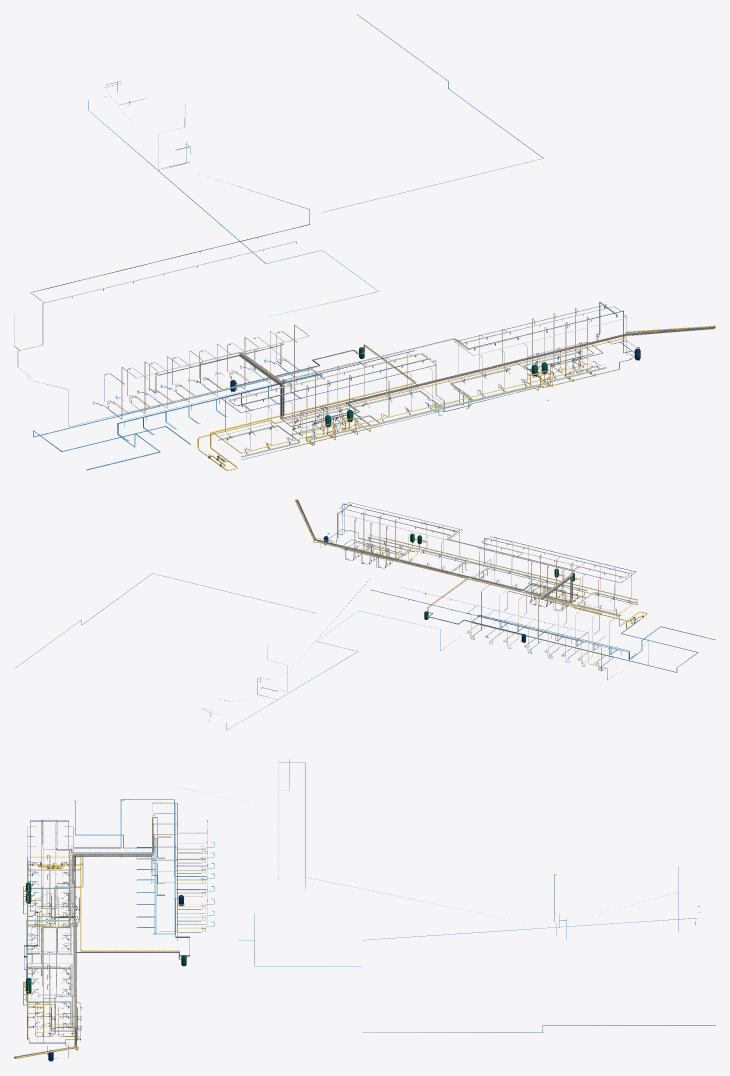
3 renders of one model, top to bottom at view 1: azimuth 30°, elevation 25°; view 2: azimuth 150°, elevation 25°; view 3: azimuth 270°, elevation 25°, orthographic. The views are drawn at different scales.
Visible parts, largest first — view 1: 压缩空气管道动画, 氮气管道动画, 水管动画, 排气管道, 磁悬浮风机管道动画3, C动画; view 2: 压缩空气管道动画, 氮气管道动画, 水管动画, 排气管道, 磁悬浮风机管道动画3, C动画, B动画; view 3: 压缩空气管道动画, 水管动画, 氮气管道动画, 排气管道, 磁悬浮风机管道动画3, 罗茨风机管道动画.
Part boxes in pixels (bbox=[...]): 压缩空气管道动画: bbox=[14, 83, 714, 459]; 氮气管道动画: bbox=[107, 325, 715, 470]; 水管动画: bbox=[33, 14, 543, 470]; 排气管道: bbox=[225, 308, 592, 450]; 磁悬浮风机管道动画3: bbox=[218, 368, 533, 456]; C动画: bbox=[149, 327, 714, 426]; 压缩空气管道动画: bbox=[207, 502, 649, 721]; 氮气管道动画: bbox=[295, 499, 647, 668]; 水管动画: bbox=[14, 573, 715, 730]; 排气管道: bbox=[354, 511, 631, 610]; 磁悬浮风机管道动画3: bbox=[405, 549, 637, 615]; C动画: bbox=[297, 500, 601, 634]; B动画: bbox=[296, 499, 571, 624]; 压缩空气管道动画: bbox=[15, 759, 695, 1061]; 水管动画: bbox=[74, 799, 715, 1032]; 氮气管道动画: bbox=[17, 846, 205, 1058]; 排气管道: bbox=[27, 825, 73, 1036]; 磁悬浮风机管道动画3: bbox=[27, 861, 71, 994]; 罗茨风机管道动画: bbox=[27, 858, 71, 1025].
Size of the model in its own units: 292 by 56.43 by 308.
38 materials, 7 textured.
